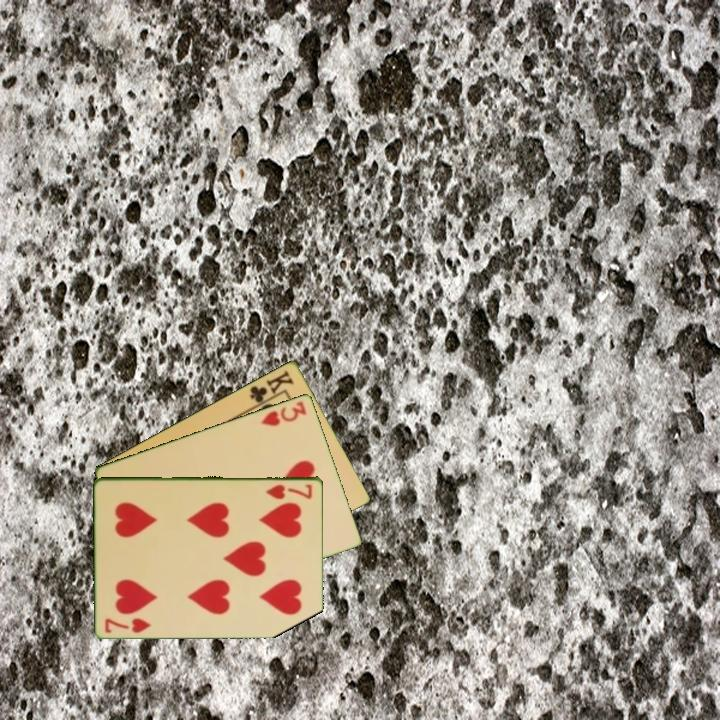3h: (258, 397, 309, 429)
7h: (263, 480, 315, 501), (102, 615, 154, 635)
Kc: (246, 366, 297, 410)
